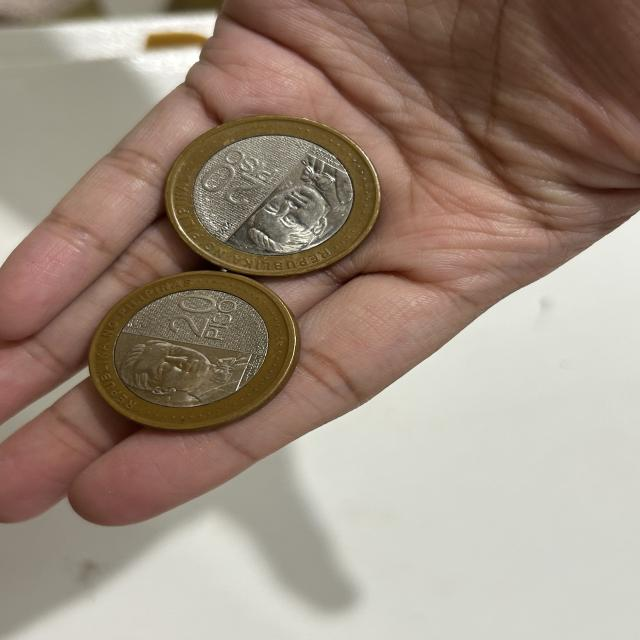20_New_Front: (195, 146, 272, 208), (164, 292, 244, 344)
